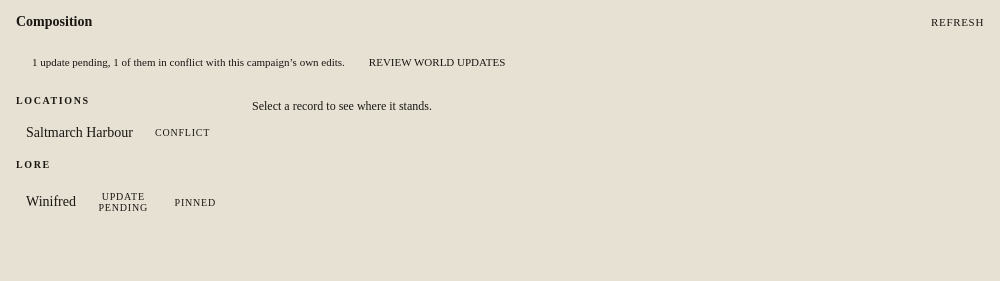
Test: a pinned ref keeps its state on show but leaves the pending count and review
Expected: the text "1 update pending" is shown, [32, 53, 345, 71]
What coordinates should you click on to do the following:
click the button "Winifred update pending pinned"
I would click on:
 (126, 202)
Its box is [16, 179, 236, 225].
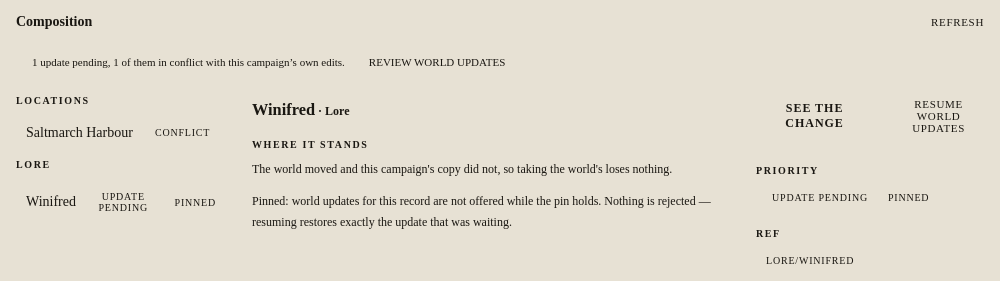
Now the element with class "detail-sidebar" shows "update pending", box [772, 192, 868, 203]
Now the element with class "detail-sidebar" shows "pinned", box [888, 192, 929, 203]
Now the button "See the change" is disabled, box [756, 92, 873, 140]
